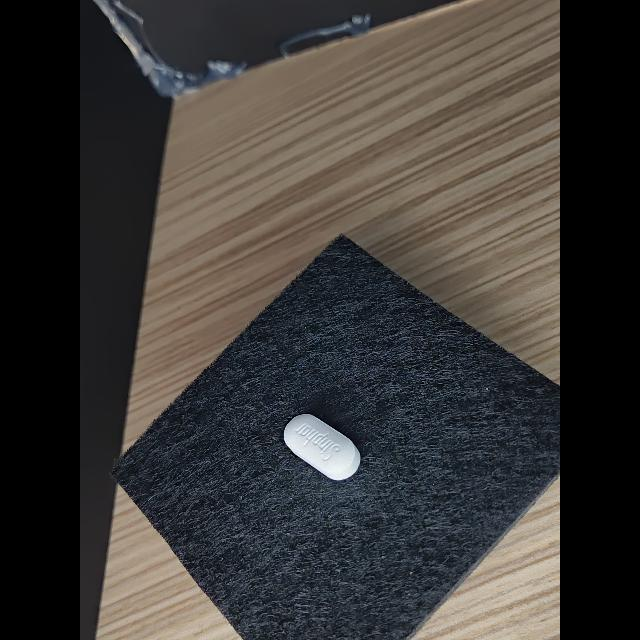Intact Pill: (284, 414, 360, 480)
